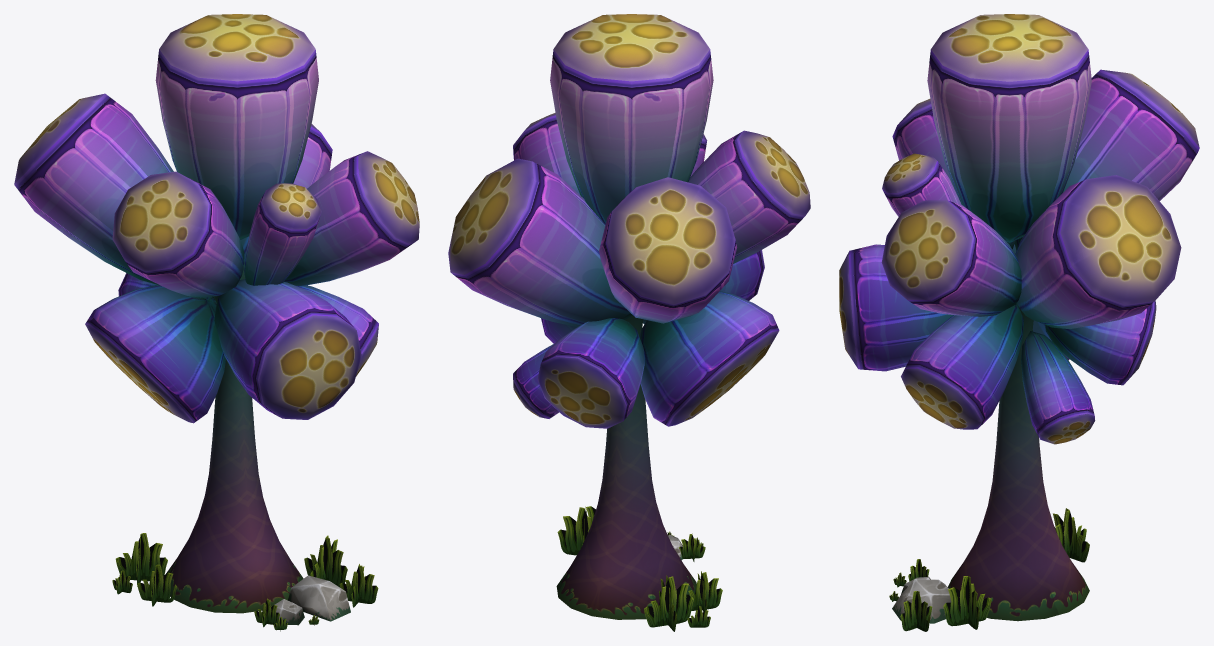
3 renders of one model, left to right at view 1: azimuth 30°, elevation 25°; view 2: azimuth 150°, elevation 25°; view 3: azimuth 270°, elevation 25°, orthographic.
Parts seen in each view (by area): view 1: tree0; view 2: tree0; view 3: tree0.
Boxes of the visible parts, box(x1,y1,x2,y2) form: tree0: box(14, 14, 419, 631); tree0: box(448, 14, 810, 631); tree0: box(839, 14, 1199, 631).
Bounding box in the file's own units: 29.26 × 50.96 × 29.76.
1 material, 1 textured.
